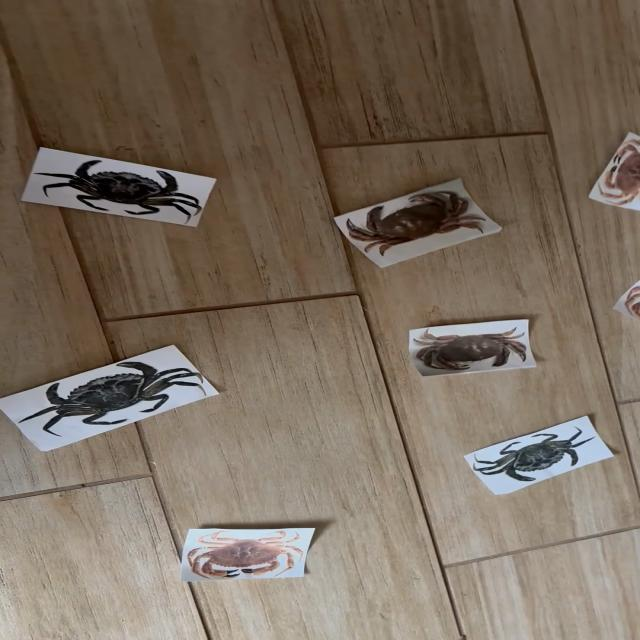egc: (20, 361, 203, 436), (42, 160, 201, 216), (473, 427, 594, 481)
